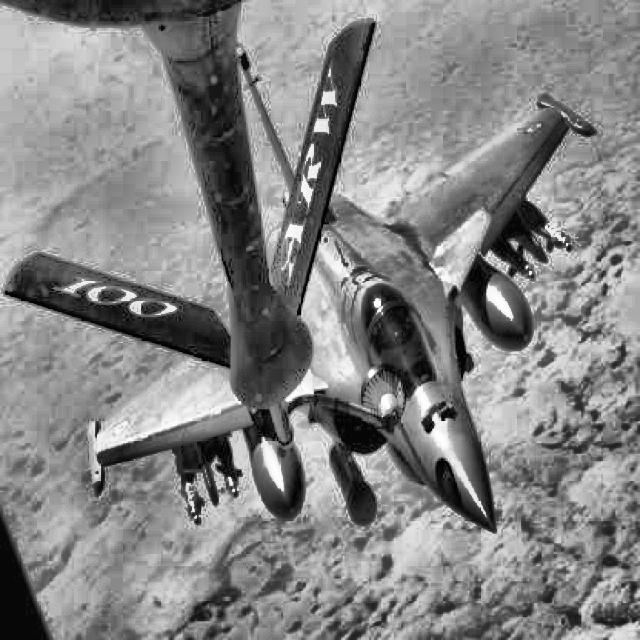Rafale: (87, 41, 596, 534)
